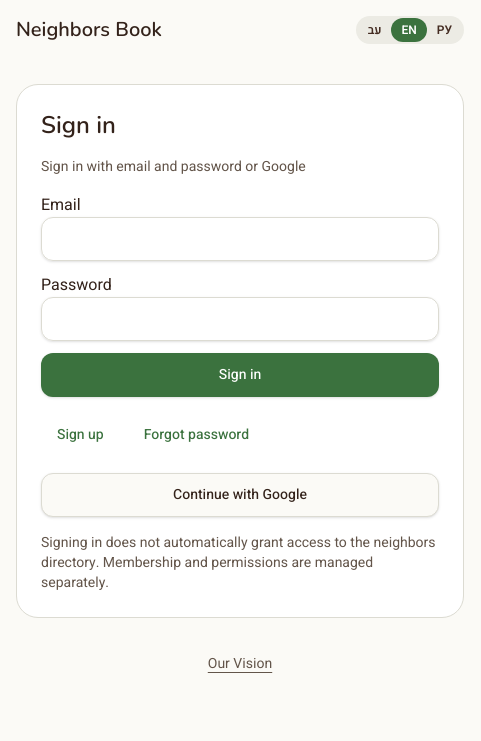
Test: registers without navigating before email verification
Click the button "Sign up" at [80, 435], box top-left (41, 413), bottom-right (120, 457)
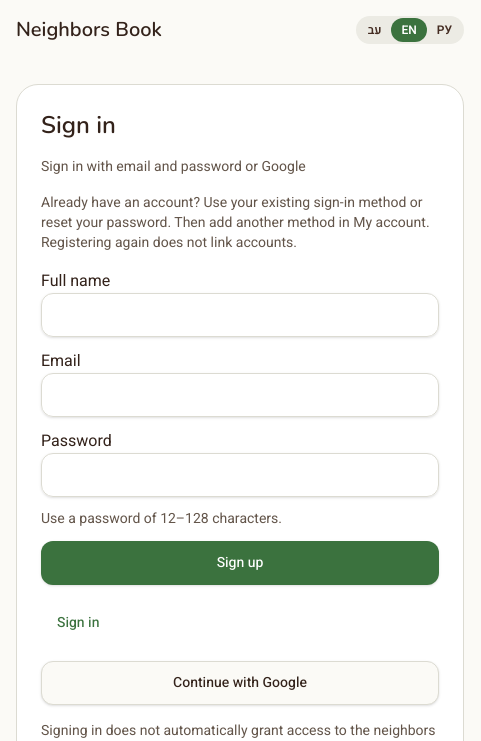
Type "New resident" into the field labelled "Full name" at [240, 315], box top-left (41, 293), bottom-right (439, 337)
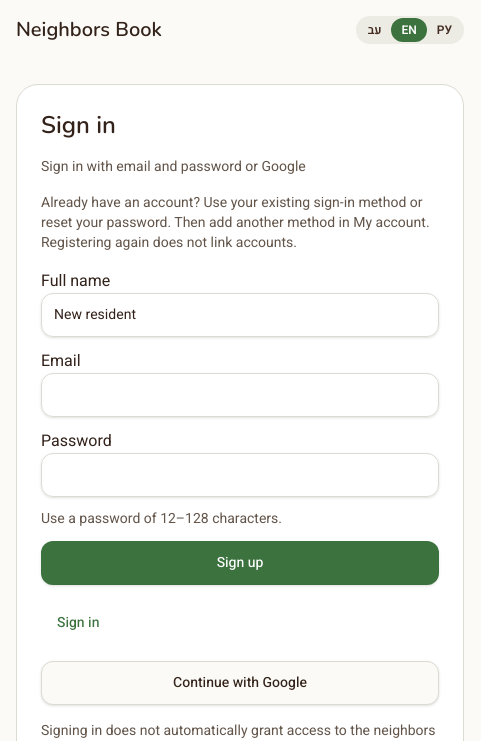
Type "new@example.test" into the field labelled "Email" at [240, 395], box top-left (41, 373), bottom-right (439, 417)
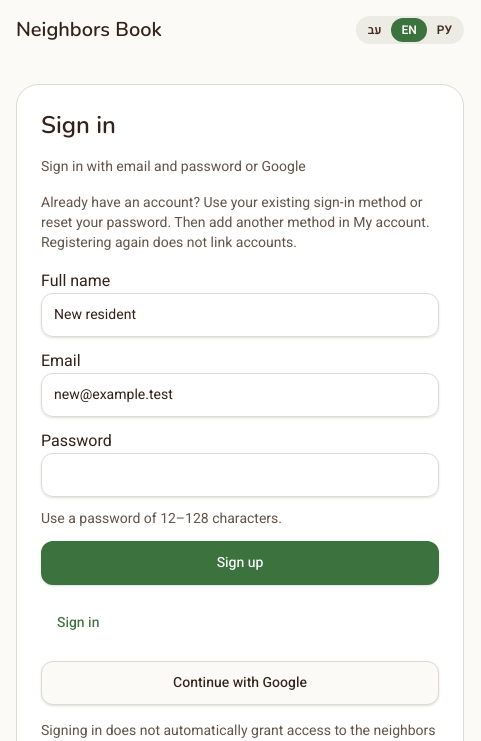
Type "valid-password-123" into the password field labelled "Password" at [240, 475], box top-left (41, 453), bottom-right (439, 497)
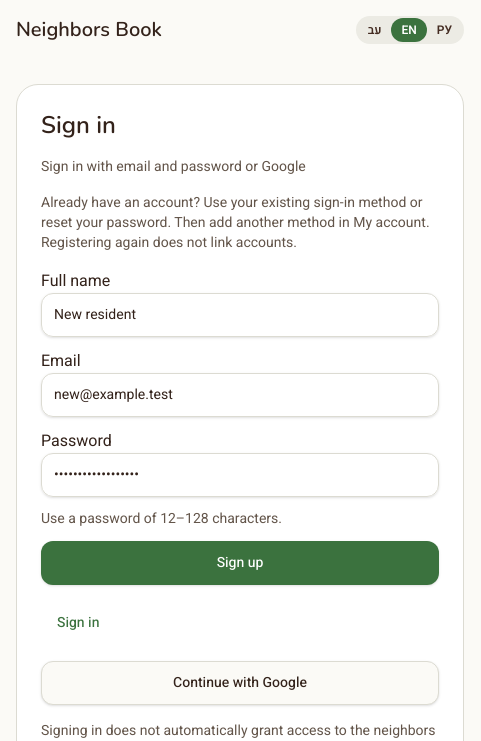
Click the button "Sign up" at [240, 563], box top-left (41, 541), bottom-right (439, 585)
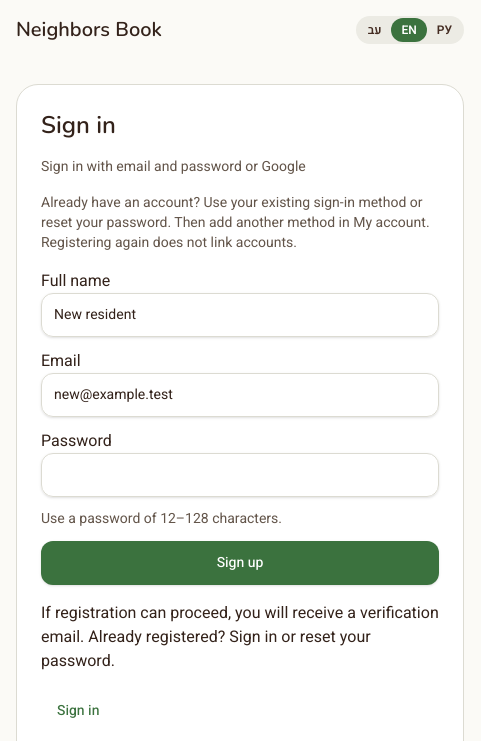
Expected: the text "Already have an account? Use your existing sign-in method or reset your password. Then add another method in My account." is shown, top-left (41, 192), bottom-right (430, 253)
Expected: the message shows "If registration can proceed, you will receive a verification email. Already registered? Sign in or reset your password.", top-left (41, 601), bottom-right (439, 673)
